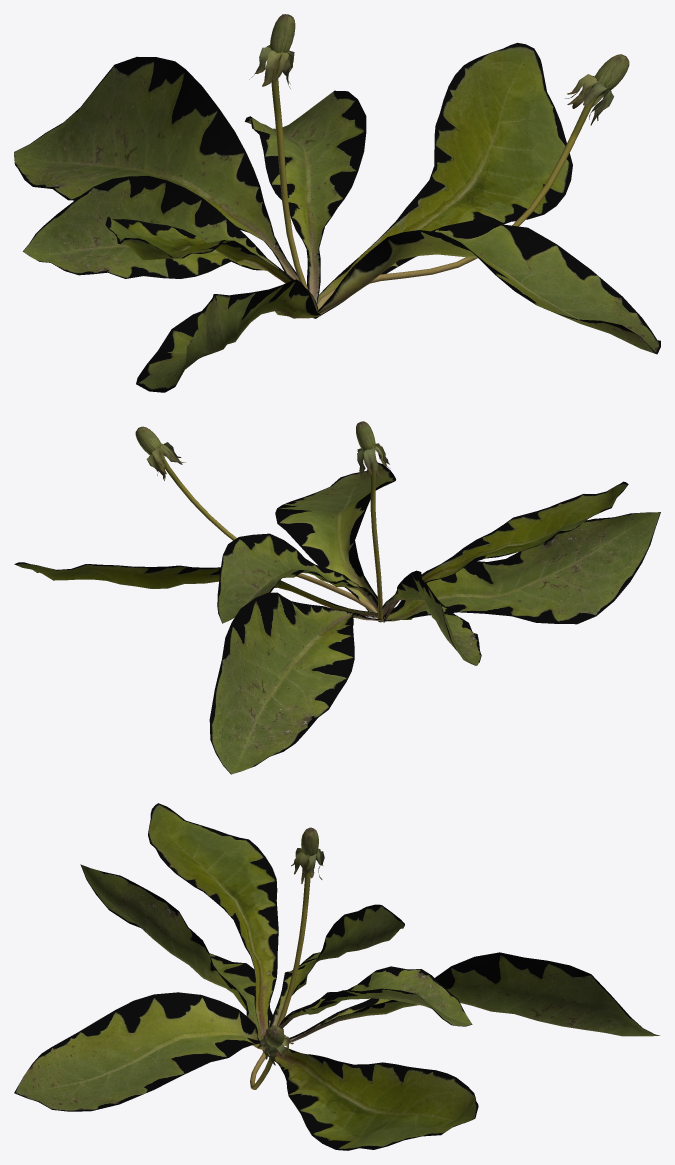
The model's file is dandelion_01_d.gltf.
The picture shows the model from 3 angles, top to bottom: view 1: azimuth 30°, elevation 25°; view 2: azimuth 150°, elevation 25°; view 3: azimuth 270°, elevation 25°; orthographic projection. The views are drawn at different scales.
Parts seen in each view (by area): view 1: dandelion_01_d_LOD0; view 2: dandelion_01_d_LOD0; view 3: dandelion_01_d_LOD0.
Boxes of the visible parts, <box> form: dandelion_01_d_LOD0: <box>14,14,660,392</box>; dandelion_01_d_LOD0: <box>14,421,660,774</box>; dandelion_01_d_LOD0: <box>14,803,659,1150</box>.
Size of the model in its own units: 0.1221 by 0.0554 by 0.1435.
Materials: 1 (1 with a texture image).
